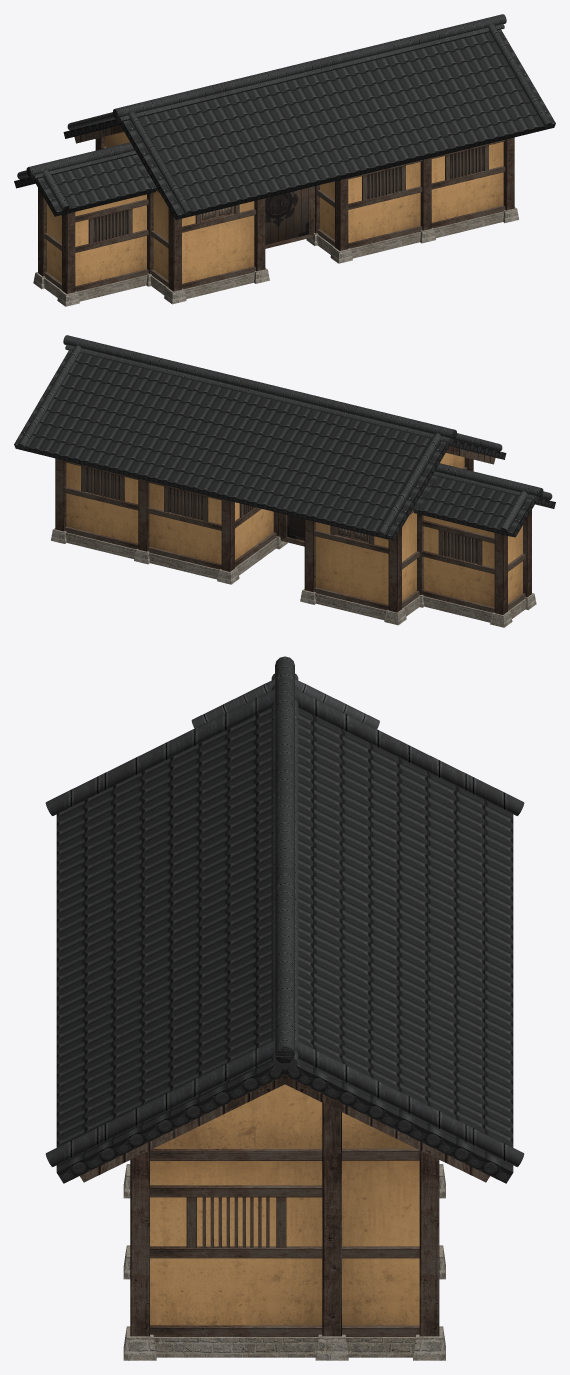
The model's file is KoreanMansion_House_4.FBX.
3 views of the same model, one above another, from view 1: azimuth 30°, elevation 25°; view 2: azimuth 150°, elevation 25°; view 3: azimuth 270°, elevation 25° (orthographic). The views are drawn at different scales.
Parts seen in each view (by area): view 1: KoreanMansion_House_4; view 2: KoreanMansion_House_4; view 3: KoreanMansion_House_4.
Part boxes in pixels (bbox=[...]): KoreanMansion_House_4: bbox=[14, 14, 555, 306]; KoreanMansion_House_4: bbox=[14, 335, 555, 627]; KoreanMansion_House_4: bbox=[45, 656, 524, 1360].
Bounding box in the file's own units: 1215 × 415 × 530.
